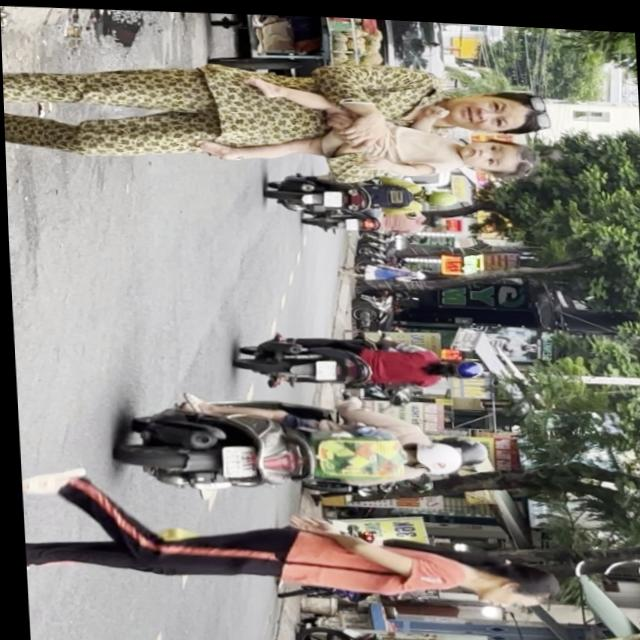helmet: (403, 436, 461, 474), (440, 431, 487, 462), (432, 352, 481, 377)
licenseplate: (110, 382, 490, 506), (233, 323, 485, 396)
nohelmet: (217, 444, 251, 476), (311, 357, 334, 378)
